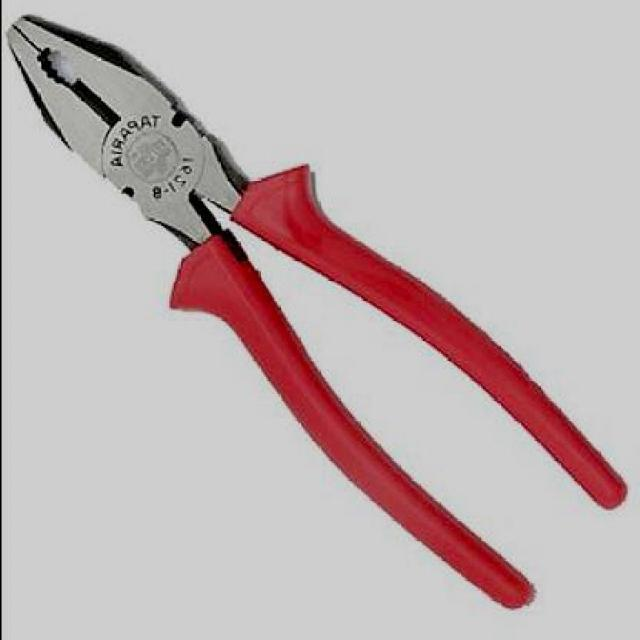pliers: (1, 19, 626, 608)
